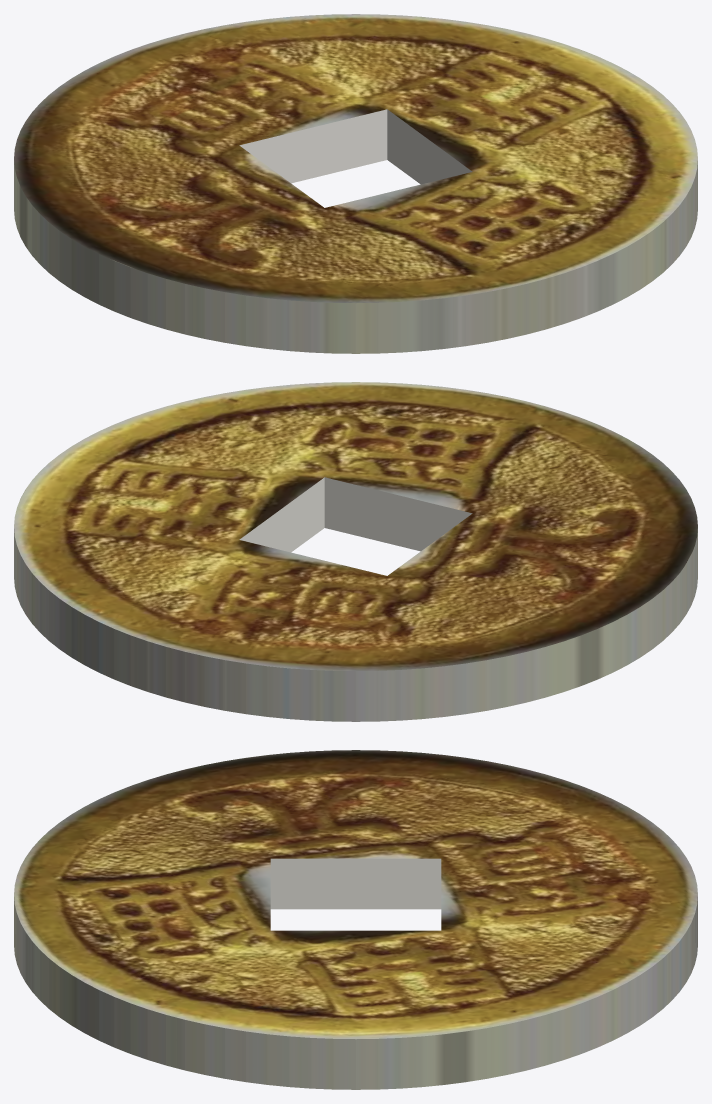
Rendered from iching_coin.glb.
3 renders of one model, top to bottom at view 1: azimuth 30°, elevation 25°; view 2: azimuth 150°, elevation 25°; view 3: azimuth 270°, elevation 25°, orthographic.
Parts seen in each view (by area): view 1: iching_coin_2; view 2: iching_coin_2; view 3: iching_coin_2.
Boxes of the visible parts, x1,y1,x2,y2 form: iching_coin_2: (14, 14, 697, 353); iching_coin_2: (14, 382, 697, 721); iching_coin_2: (14, 750, 697, 1089).
Bounding box in the file's own units: 0.22 × 0.018 × 0.22.
Materials: 2 (1 with a texture image).
